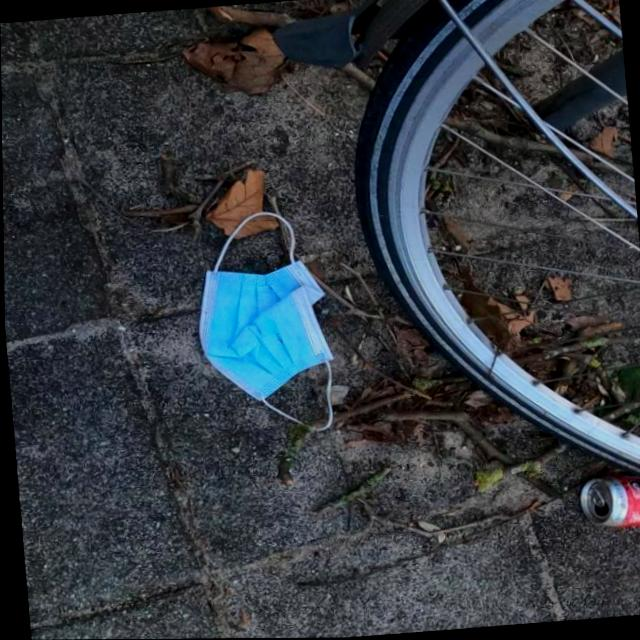Can-Metal: (573, 469, 640, 535)
Mask: (184, 205, 338, 440)
